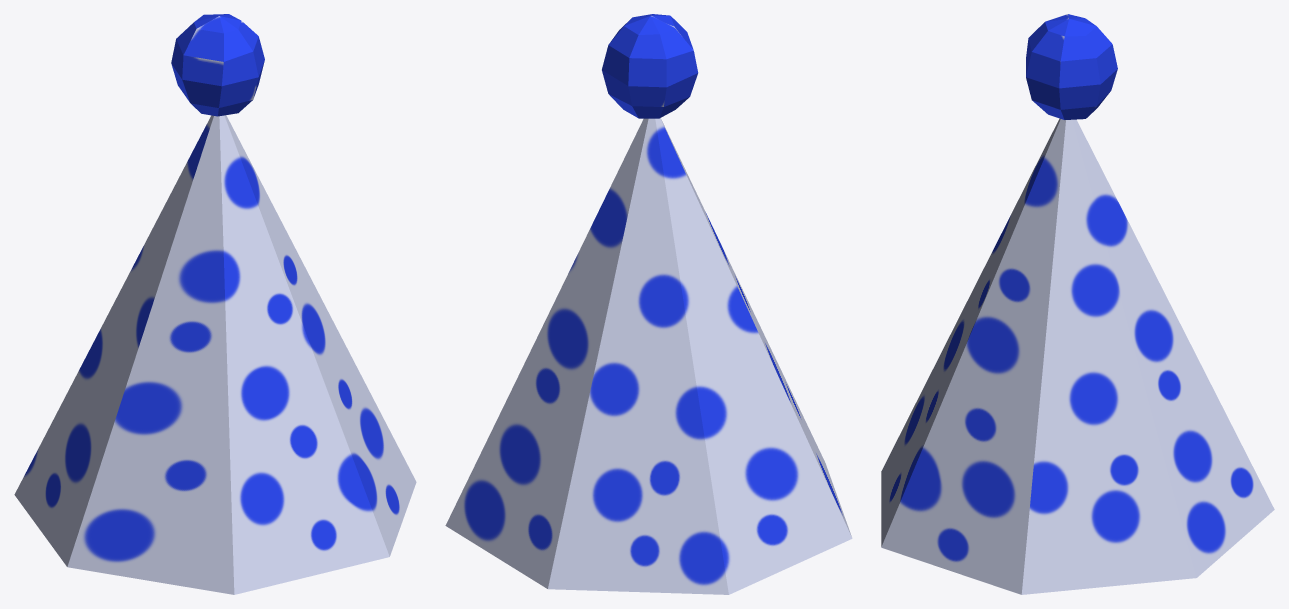
The model's file is PartyHat_1.fbx.
3 renders of one model, left to right at view 1: azimuth 30°, elevation 25°; view 2: azimuth 150°, elevation 25°; view 3: azimuth 270°, elevation 25°, orthographic.
Visible parts, largest first — view 1: Partyhat one; view 2: Partyhat one; view 3: Partyhat one.
Part boxes in pixels (x1,y1,x2,y2): Partyhat one: [14, 14, 416, 594]; Partyhat one: [445, 14, 852, 594]; Partyhat one: [881, 14, 1274, 594].
Bounding box in the file's own units: 149 × 200 × 145.
